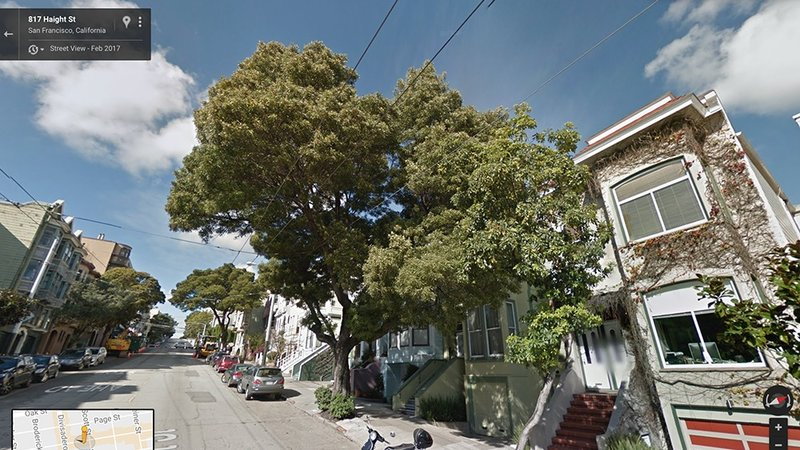tree: (165, 37, 619, 420)
